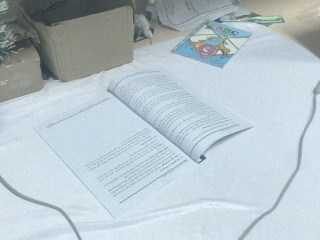book: (169, 22, 253, 64)
box: (9, 1, 137, 84), (1, 9, 43, 107)
